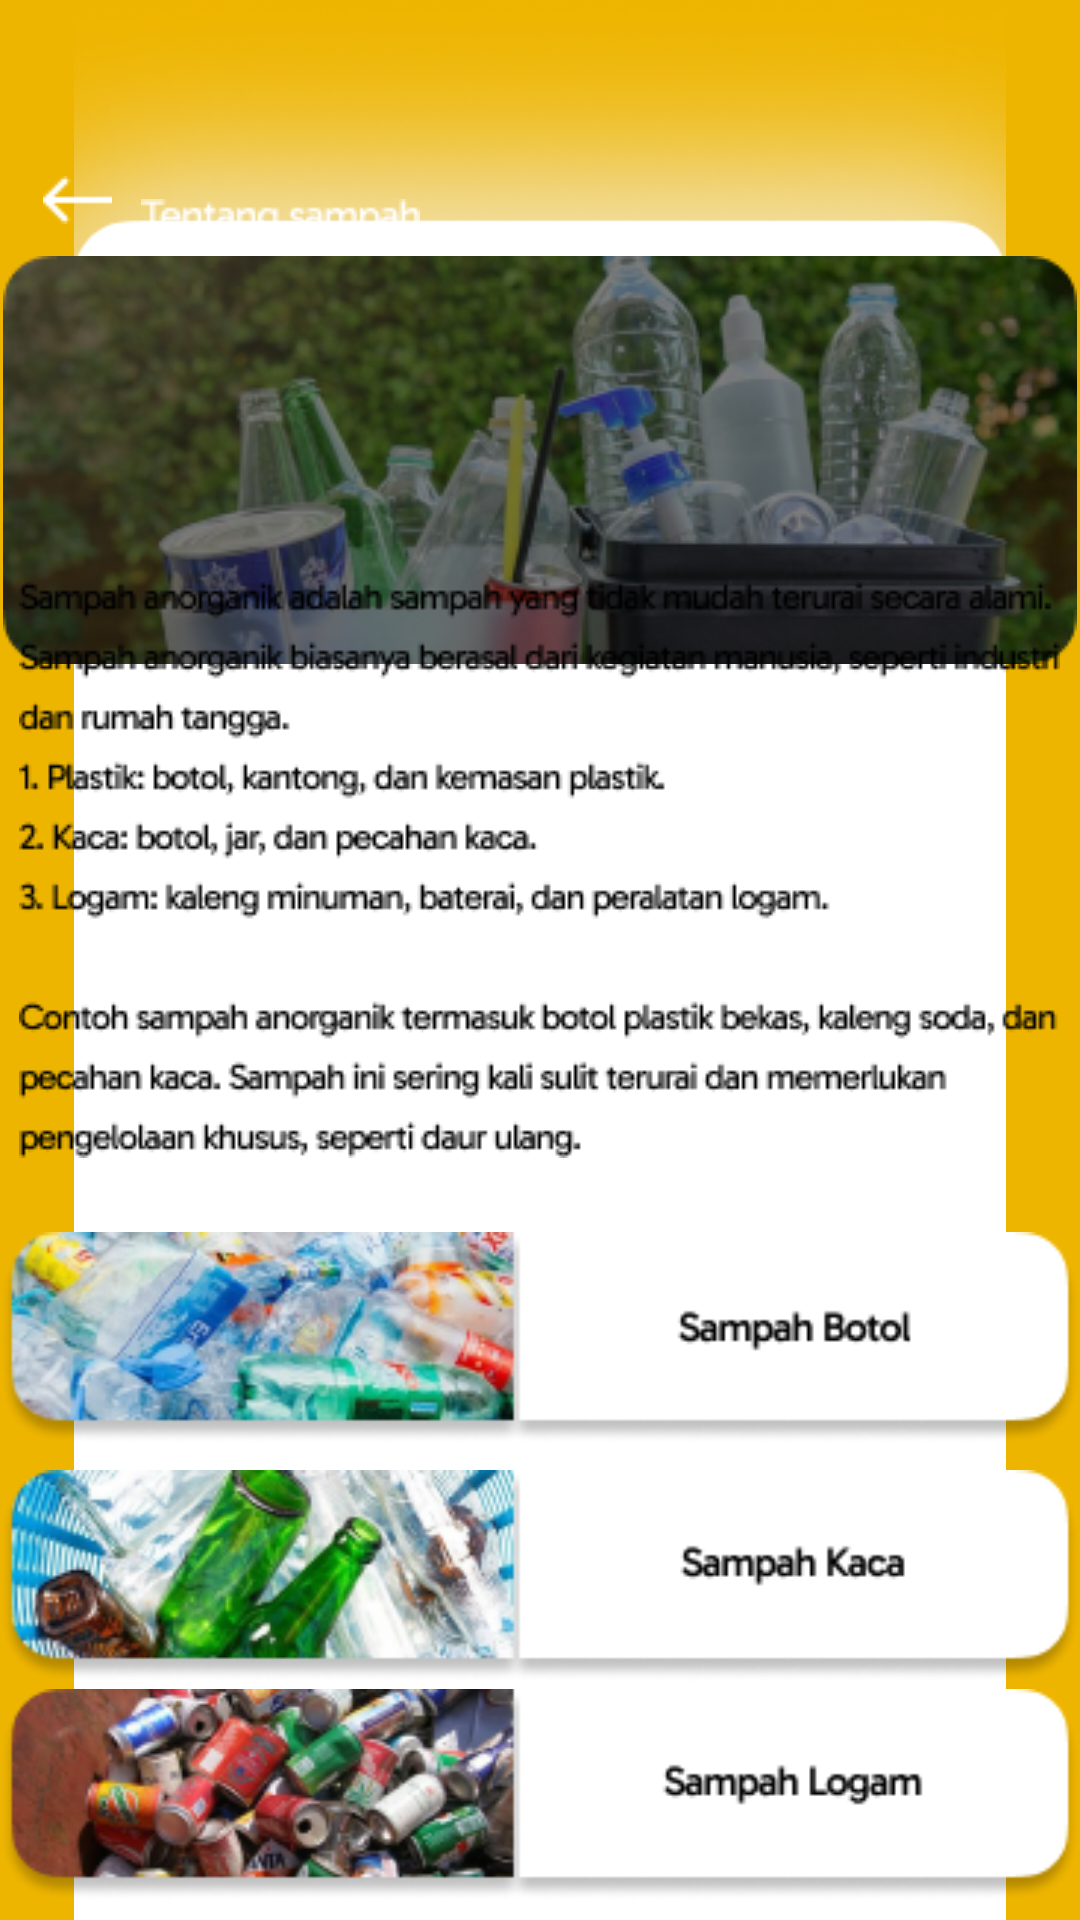

Named icons in this screenshot (1080×1920) and their centers, (x=x, y=y):
anorganik panah kembali: (x=77, y=200)
